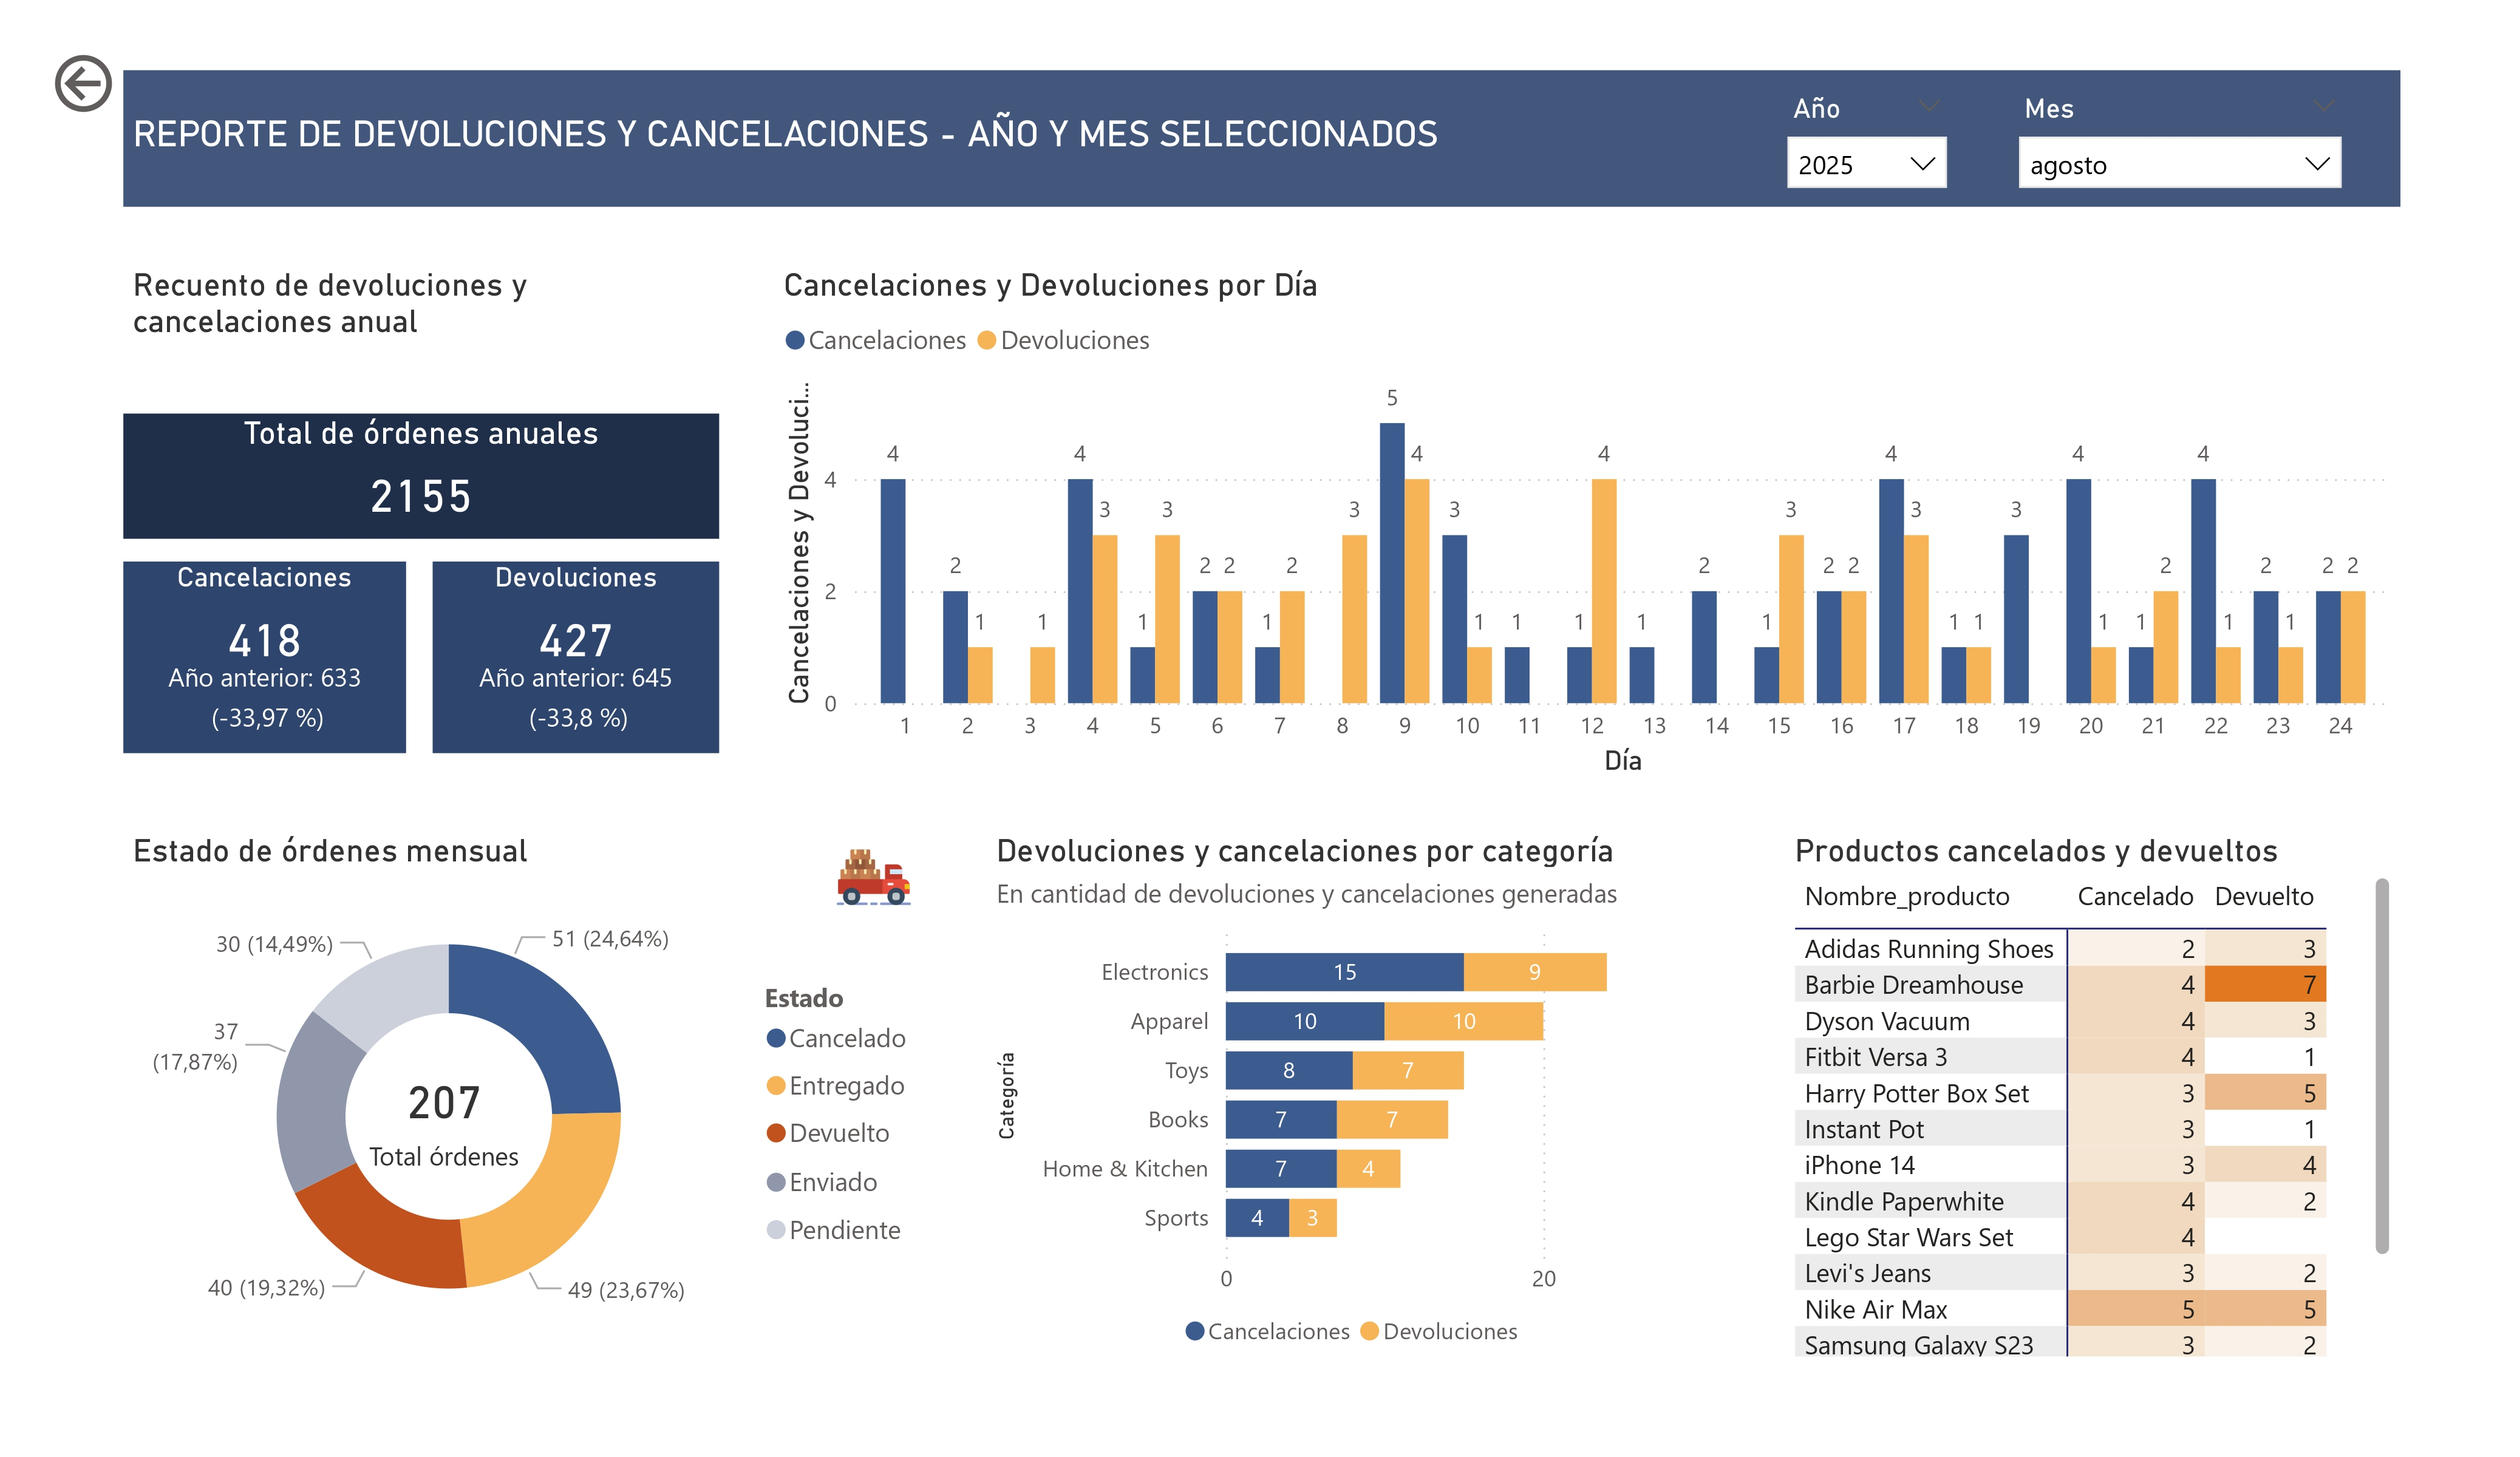

Layout of this report page (visuals, bound fields, positions):
{"tool":"powerbi","page":{"name":"Página 2","canvas":[1280,720],"ordinal":1},"visuals":[{"type":"textbox","box":[40.9,12.6,1200,72],"z":0},{"type":"pivotTable","title":"Productos cancelados y devueltos","fields":{"Rows":["orders.product_name"],"Columns":["orders.order_status"],"Values":["CountNonNull(orders.order_status)"]},"box":[917.2,414.3,323.9,282.1],"z":1000},{"type":"actionButton","box":[0,0,100,40],"z":2000},{"type":"barChart","title":"Devoluciones y cancelaciones por categoría","fields":{"Category":["products.category"],"Y":["Medidas.Cancelled Orders","Medidas.Returned Orders"]},"box":[496.1,413.7,388.7,282.1],"z":3000},{"type":"card","title":"Total de órdenes anuales","fields":{"Values":["CountNonNull(orders.order_id)"]},"box":[40.9,193.6,314.2,66.1],"z":4000},{"type":"lineClusteredColumnComboChart","fields":{"Y":["Medidas.Cancelled Orders","Medidas.Returned Orders"],"Category":["orders.order_date.Variación.Jerarquía de fechas.Día"]},"box":[384.2,115.7,856.9,274.3],"z":5000},{"type":"slicer","fields":{"Values":["orders.order_date.Variación.Jerarquía de fechas.Año"]},"box":[908,20,104,57],"z":6000},{"type":"donutChart","title":"Estado de órdenes mensual","fields":{"Category":["orders.order_status"],"Y":["CountNonNull(orders.order_status)"]},"box":[41.2,413.7,427.2,282.1],"z":7000},{"type":"slicer","fields":{"Values":["orders.order_date.Variación.Jerarquía de fechas.Mes"]},"box":[1030,20,190,57],"z":8000},{"type":"card","title":"Total Orders","fields":{"Values":["CountNonNull(orders.order_id)"]},"box":[140.5,524.5,138.6,79.2],"z":9000},{"type":"image","box":[377.3,413.6,119.1,49.1],"z":10000},{"type":"kpi","title":"Cancelaciones","fields":{"TrendLine":["orders.order_date.Variación.Jerarquía de fechas.Año"],"Indicator":["Medidas.Cancelaciones"],"Goal":["Medidas.cancelaciones año anterior"]},"box":[40.9,272.3,148.8,100.2],"z":11000},{"type":"kpi","title":"Devoluciones","fields":{"TrendLine":["orders.order_date.Variación.Jerarquía de fechas.Año"],"Indicator":["Medidas.Devoluciones"],"Goal":["Medidas.devoluciones año anterios"]},"box":[204.3,272.3,150.8,100.2],"z":12000},{"type":"textbox","title":"Recuento de devoluciones y cancelaciones anual","box":[40.9,115.7,314.2,70],"z":13000}]}

Visuals, with their boxes on the page's 1280x720 design canvas (x1, y1, x2, y2). These are canvas units, not pixel positions in the 2520x1457 screenshot, which may show the page scaled, cropped or inside an application window:
textbox: (41,13,1241,85)
"Productos cancelados y devueltos" pivotTable: (917,414,1241,696)
actionButton: (0,0,100,40)
"Devoluciones y cancelaciones por categoría" barChart: (496,414,885,696)
"Total de órdenes anuales" card: (41,194,355,260)
lineClusteredColumnComboChart - Medidas.Cancelled Orders x Medidas.Returned Orders: (384,116,1241,390)
slicer - orders.order_date.Variación.Jerarquía de fechas.Año: (908,20,1012,77)
"Estado de órdenes mensual" donutChart: (41,414,468,696)
slicer - orders.order_date.Variación.Jerarquía de fechas.Mes: (1030,20,1220,77)
"Total Orders" card: (140,524,279,604)
image: (377,414,496,463)
"Cancelaciones" kpi: (41,272,190,372)
"Devoluciones" kpi: (204,272,355,372)
"Recuento de devoluciones y cancelaciones anual" textbox: (41,116,355,186)
